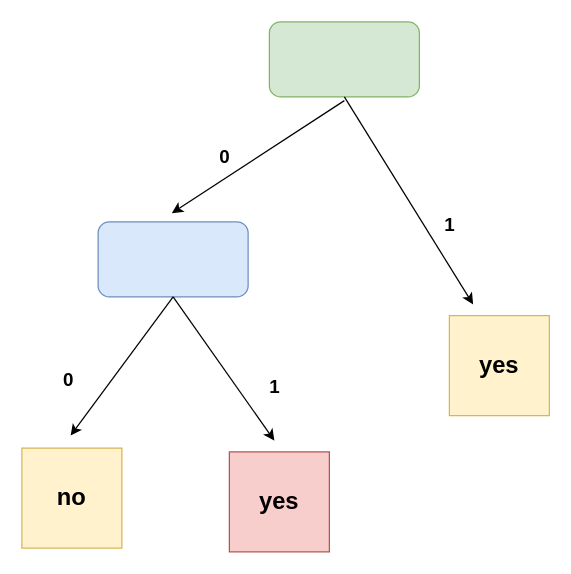
Some shapes in this 571 by 574 pixel diagram are drawn without their labels. Here are the shapes that lost their labels. From the top down, the centre of each, then its label:
(343,59): 有自己的房子
(172,259): 有工作
